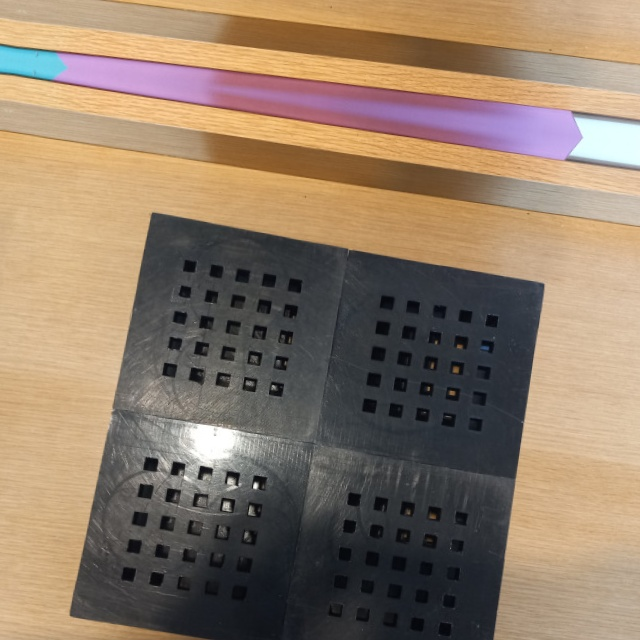pallet: (60, 195, 554, 640)
